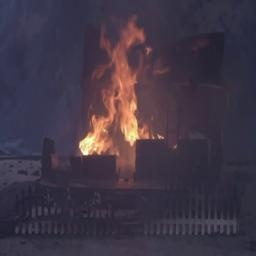fire: (81, 26, 146, 148)
